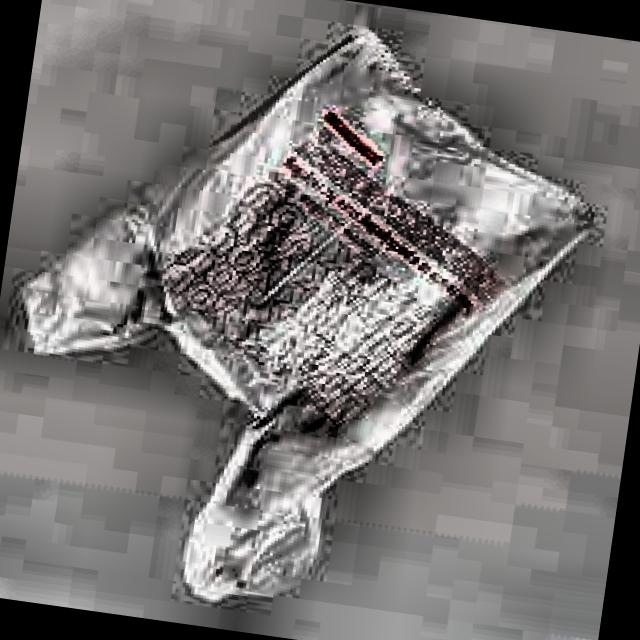plastic bag: (151, 31, 590, 599)
